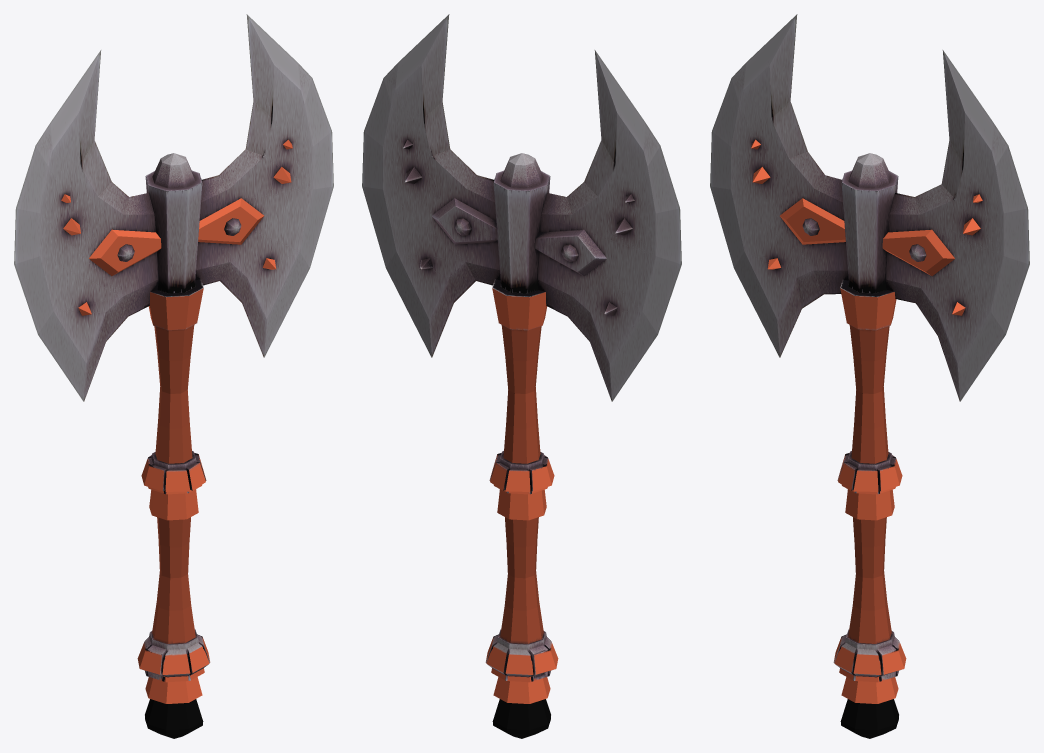
The model's file is Axe.fbx.
The picture shows the model from 3 angles, left to right: view 1: azimuth 30°, elevation 25°; view 2: azimuth 150°, elevation 25°; view 3: azimuth 330°, elevation 25°; orthographic projection.
Parts seen in each view (by area): view 1: Axe; view 2: Axe; view 3: Axe.
Part boxes in pixels (<box>): Axe: <box>14,14,333,738</box>; Axe: <box>362,14,681,738</box>; Axe: <box>710,14,1029,738</box>.
Bounding box in the file's own units: 789 × 1668 × 150.
1 material, 1 textured.
